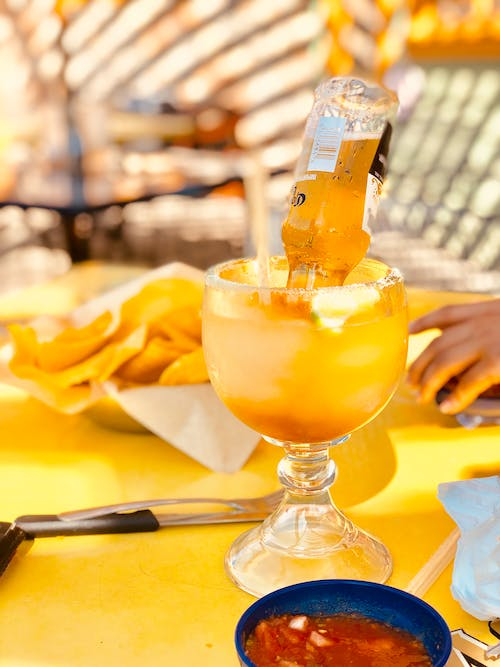alcohol: (201, 252, 410, 600), (279, 75, 401, 289)
knife: (12, 509, 273, 541)
